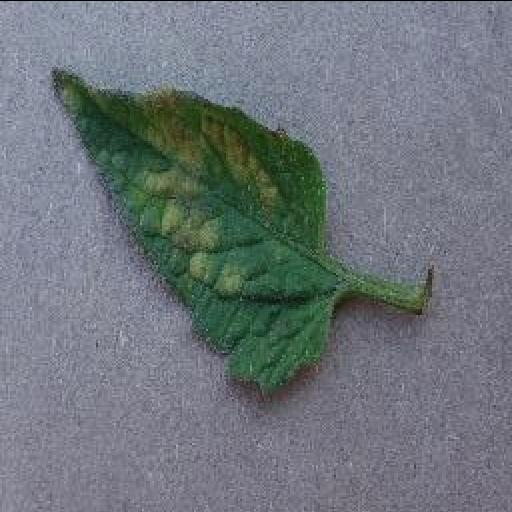disease_tomato: (46, 68, 332, 394)
